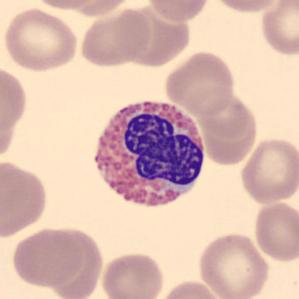Eosinophil: (85, 92, 210, 220)
RBC: (0, 6, 80, 73), (196, 230, 272, 299), (162, 49, 237, 116), (9, 226, 86, 289), (77, 5, 153, 68), (118, 6, 192, 68), (46, 225, 106, 298), (238, 135, 298, 206), (0, 157, 50, 240), (201, 95, 258, 166), (99, 250, 166, 299), (0, 61, 30, 161), (252, 199, 298, 264), (257, 0, 298, 57), (35, 0, 135, 18), (145, 0, 211, 24), (156, 277, 224, 299), (208, 0, 285, 15), (26, 0, 103, 12)
